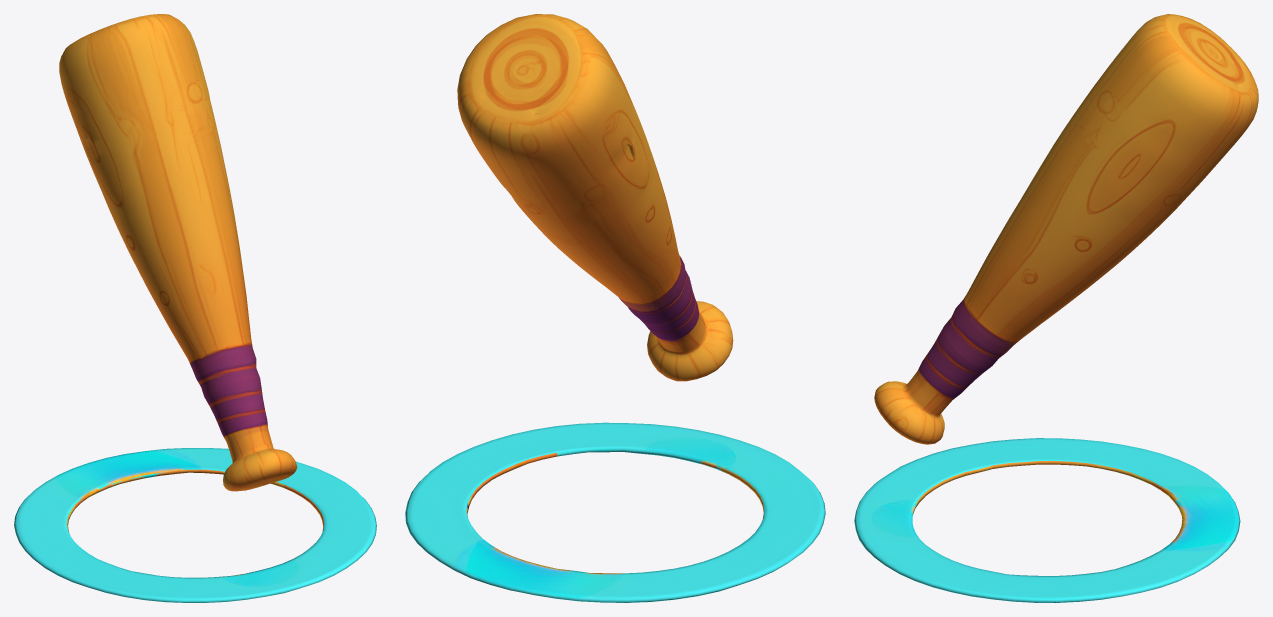
The model's file is bate.fbx.
The picture shows the model from 3 angles, left to right: view 1: azimuth 30°, elevation 25°; view 2: azimuth 150°, elevation 25°; view 3: azimuth 270°, elevation 25°; orthographic projection. The views are drawn at different scales.
Visible parts, largest first — view 1: tripo_node_a15898c0; view 2: tripo_node_a15898c0; view 3: tripo_node_a15898c0.
Part boxes in pixels (x1,y1,x2,y2): tripo_node_a15898c0: [14, 14, 376, 602]; tripo_node_a15898c0: [405, 14, 825, 602]; tripo_node_a15898c0: [854, 14, 1258, 602].
Bounding box in the file's own units: 0.6959 × 0.999 × 0.7318.
1 material, 1 textured.
